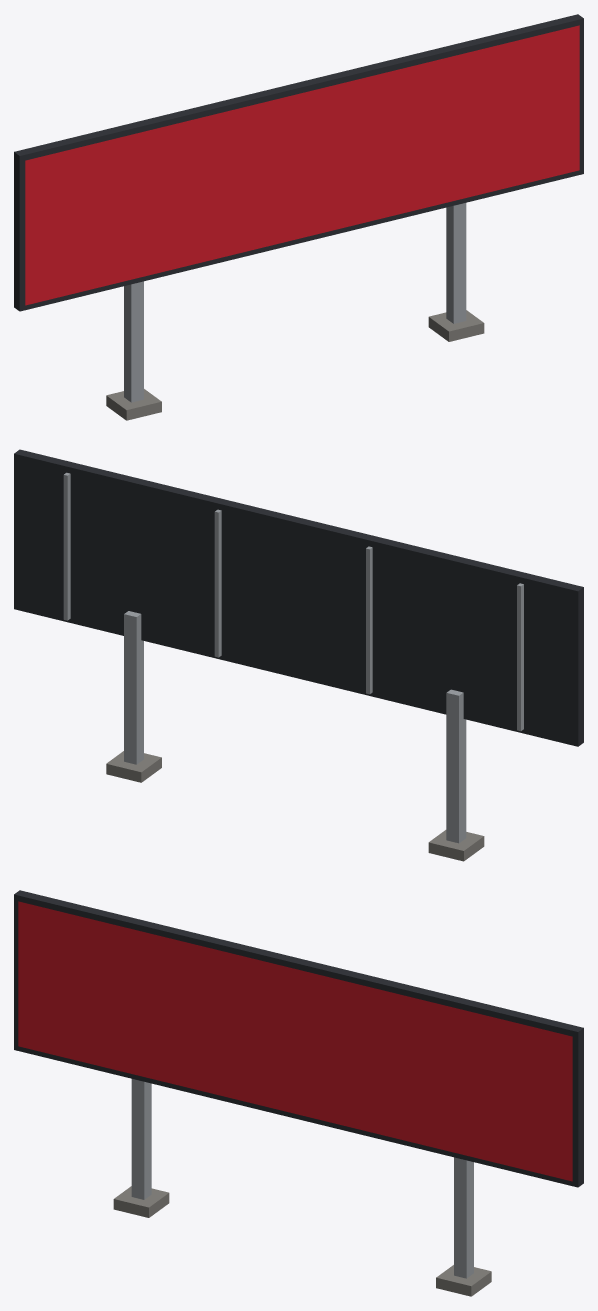
The model's file is billboard.glb.
3 views of the same model, one above another, from view 1: azimuth 30°, elevation 25°; view 2: azimuth 150°, elevation 25°; view 3: azimuth 330°, elevation 25° (orthographic).
Visible parts, largest first — view 1: billboard; view 2: billboard; view 3: billboard.
Boxes of the visible parts, box(x1,y1,x2,y2) form: billboard: box(14, 14, 583, 420); billboard: box(14, 449, 583, 861); billboard: box(14, 890, 583, 1296).
Bounding box in the file's own units: 11.2 × 5.45 × 0.7.
